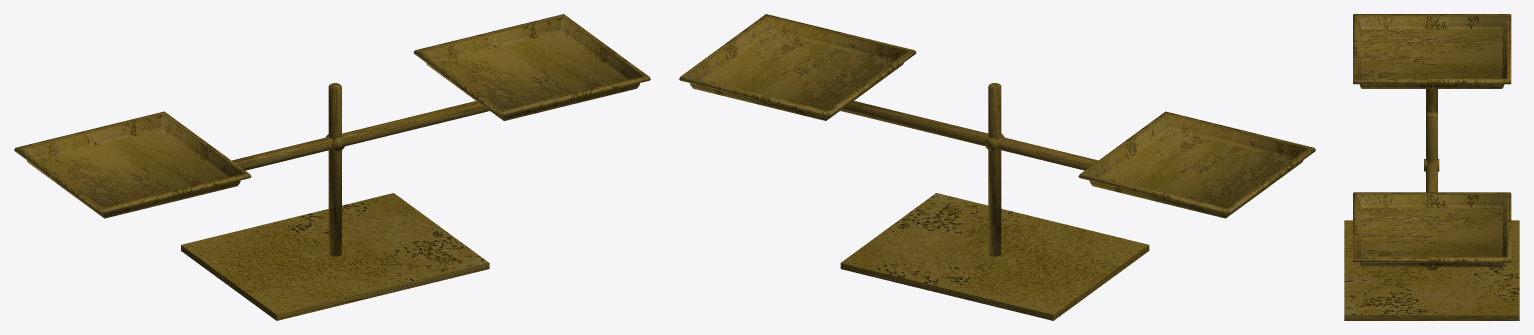
Rendered from balance2.fbx.
3 views of the same model, side by side, from view 1: azimuth 30°, elevation 25°; view 2: azimuth 150°, elevation 25°; view 3: azimuth 270°, elevation 25° (orthographic). The views are drawn at different scales.
Parts seen in each view (by area): view 1: Base, Plato0, Plato1, Horizontal, Vertical; view 2: Base, Plato0, Plato1, Horizontal, Vertical; view 3: Plato1, Plato0, Base, Vertical, Horizontal.
Boxes of the visible parts, box(x1,y1,x2,y2) form: Base: box(181, 193, 489, 320); Plato0: box(14, 111, 251, 218); Plato1: box(413, 14, 650, 120); Horizontal: box(232, 101, 489, 170); Vertical: box(328, 83, 341, 256); Base: box(840, 193, 1149, 320); Plato0: box(1078, 111, 1315, 218); Plato1: box(679, 14, 916, 120); Horizontal: box(840, 101, 1098, 170); Vertical: box(988, 83, 1001, 256); Plato1: box(1353, 192, 1511, 267); Plato0: box(1353, 14, 1511, 88); Base: box(1344, 220, 1519, 320); Vertical: box(1426, 111, 1437, 270); Horizontal: box(1426, 89, 1437, 192).
Bounding box in the file's own units: 806 × 246 × 243.
1 material, 1 textured.
